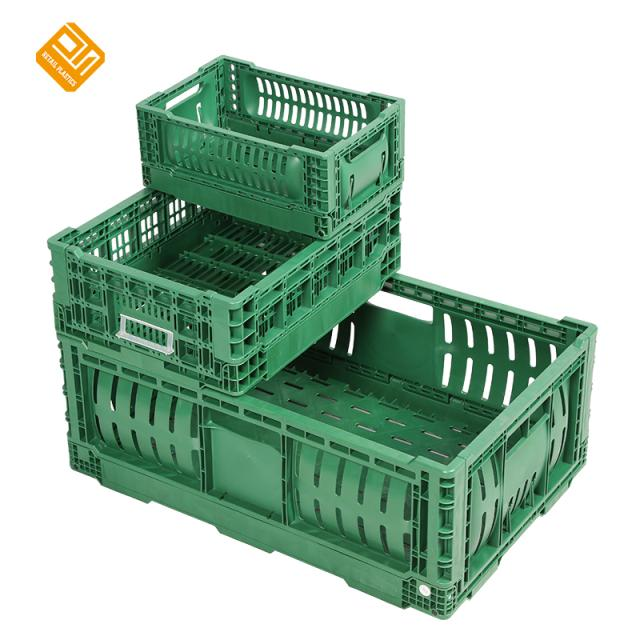basket: (48, 187, 401, 396), (116, 37, 422, 254)
